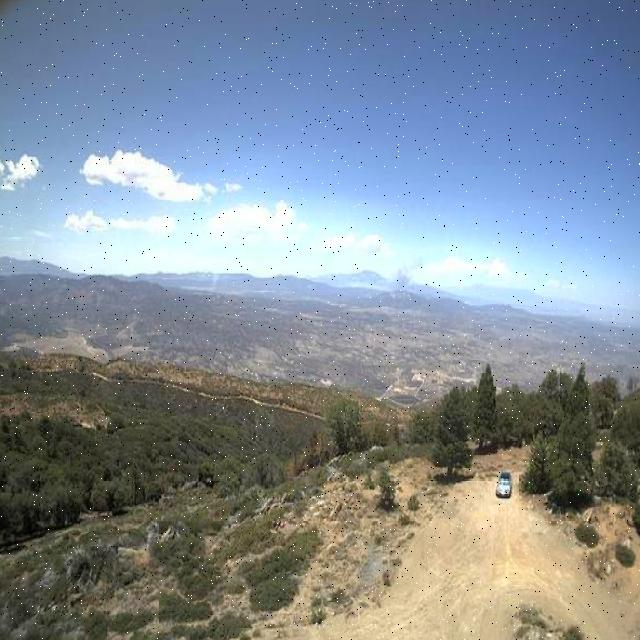smoke: (385, 256, 425, 303)
